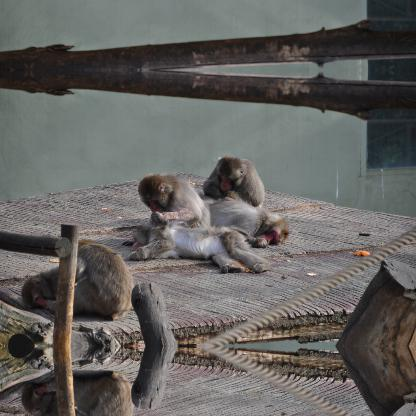Monkey: (24, 241, 134, 319), (130, 220, 268, 272), (124, 172, 204, 244), (24, 371, 135, 415), (209, 195, 287, 245), (200, 154, 264, 206)
